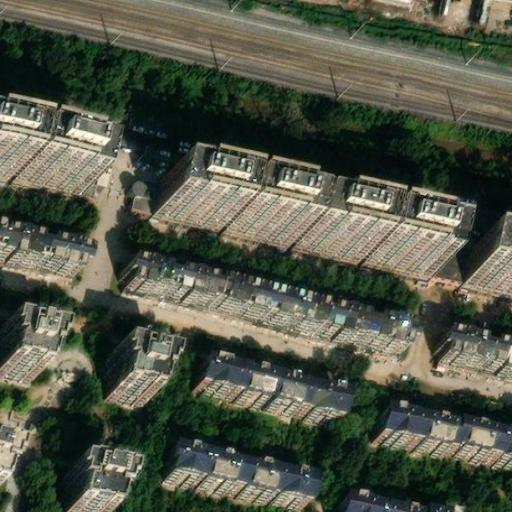building: (151, 172, 441, 263), (119, 251, 403, 342), (160, 448, 310, 512), (369, 407, 512, 468), (193, 356, 320, 415), (103, 354, 159, 402), (59, 467, 117, 512), (336, 490, 452, 511)
